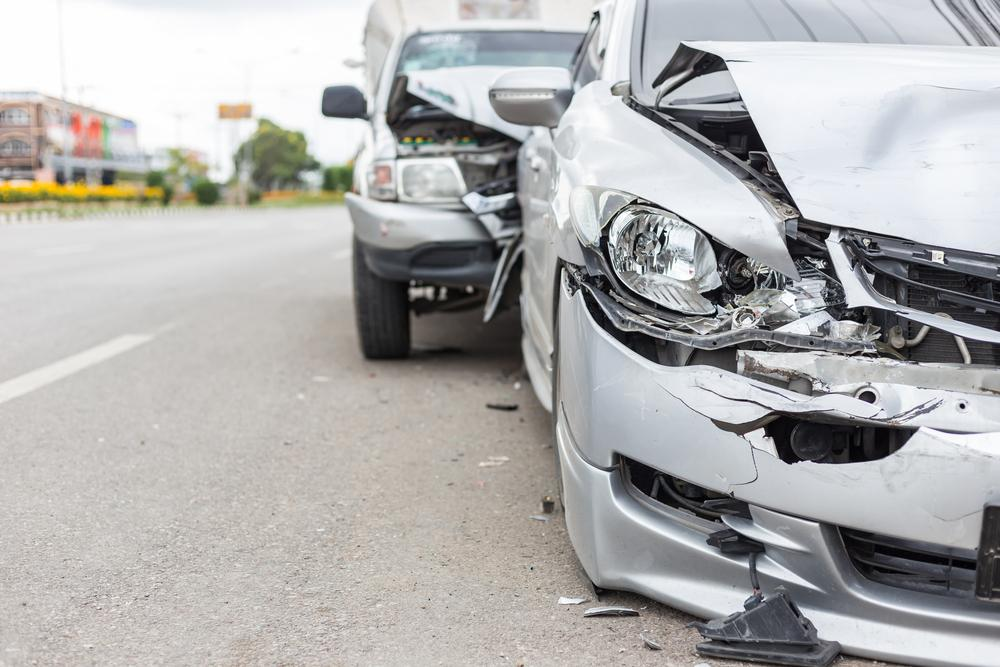crack: (653, 378, 923, 492), (692, 370, 815, 404)
dent: (778, 89, 1000, 253)
lamp broken: (603, 203, 856, 348)
